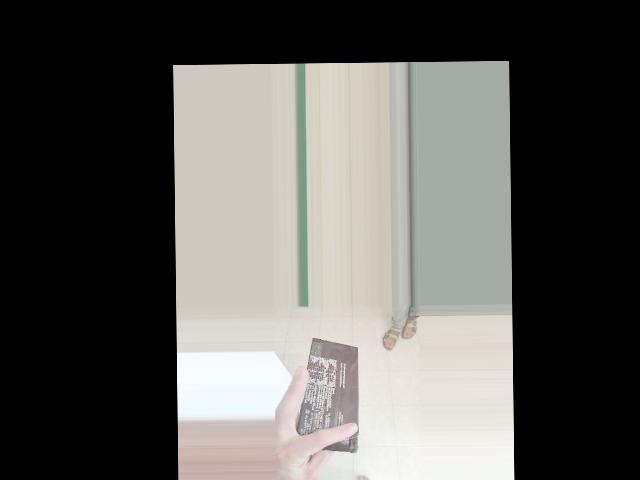chocolate: (304, 365, 428, 444)
